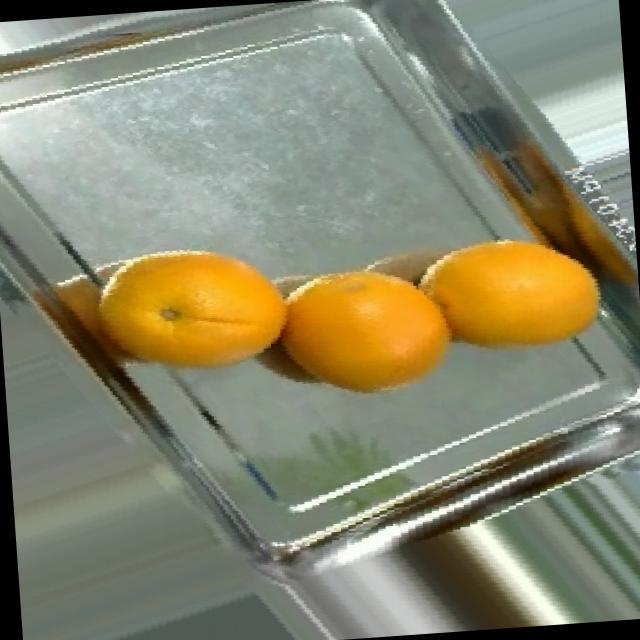Fruit: (398, 215, 632, 382)
